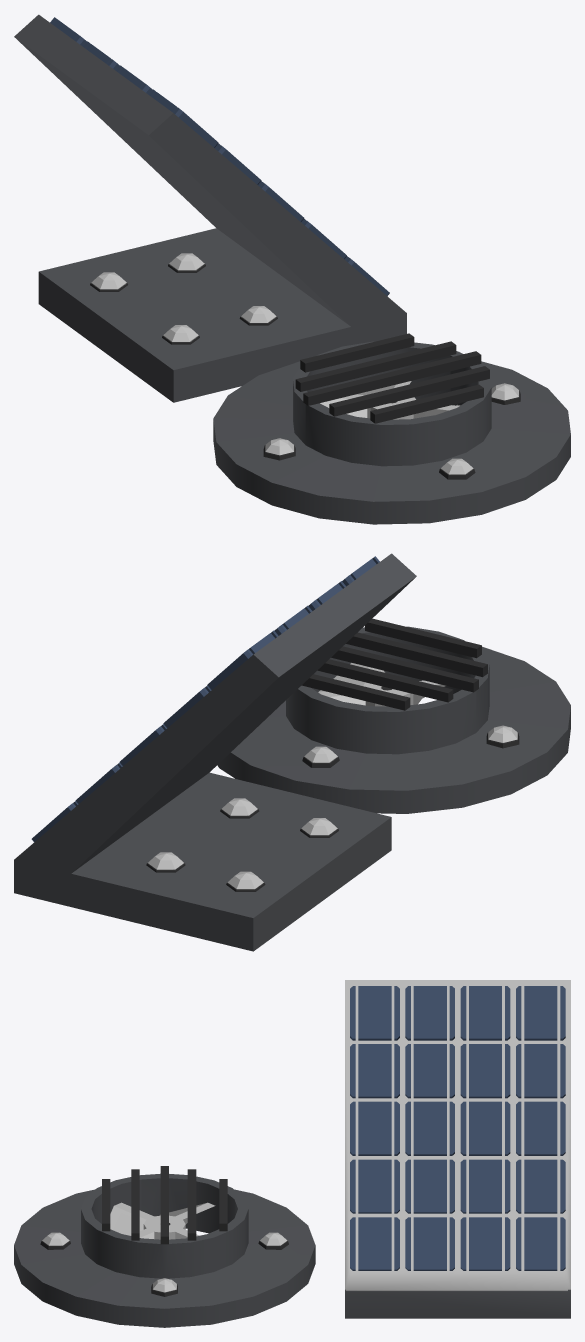
Rendered from Attic Fan 2.obj.
3 renders of one model, top to bottom at view 1: azimuth 30°, elevation 25°; view 2: azimuth 150°, elevation 25°; view 3: azimuth 270°, elevation 25°, orthographic. The views are drawn at different scales.
Visible parts, largest first — view 1: Solar_battery1, Attic_Fan, Fan1; view 2: Solar_battery1, Attic_Fan, Fan1; view 3: Solar_battery1, Attic_Fan, Fan1.
Part boxes in pixels (left/top/right/bottom): Solar_battery1: left=14, top=14, right=406, bottom=402; Attic_Fan: left=213, top=333, right=570, bottom=524; Fan1: left=320, top=381, right=460, bottom=419; Solar_battery1: left=14, top=553, right=416, bottom=951; Attic_Fan: left=217, top=618, right=570, bottom=813; Fan1: left=318, top=663, right=445, bottom=706; Solar_battery1: left=345, top=980, right=570, bottom=1318; Attic_Fan: left=14, top=1166, right=315, bottom=1327; Fan1: left=110, top=1202, right=215, bottom=1239.
Bounding box in the file's own units: 720 × 640 × 1330.
1 material, 1 textured.
